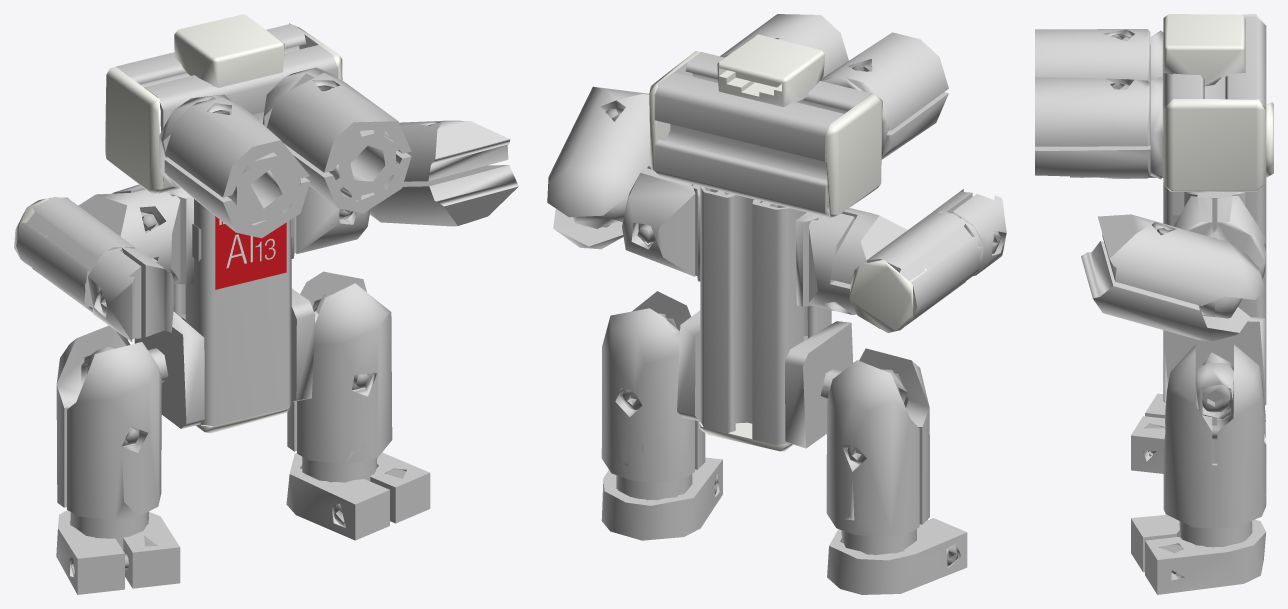
The model's file is item-robot-low.glb.
3 views of the same model, side by side, from view 1: azimuth 30°, elevation 25°; view 2: azimuth 150°, elevation 25°; view 3: azimuth 270°, elevation 25° (orthographic). The views are drawn at different scales.
Parts seen in each view (by area): view 1: Roboter; view 2: Roboter; view 3: Roboter.
Part boxes in pixels (<box>): Roboter: <box>14,14,518,594</box>; Roboter: <box>547,14,1006,594</box>; Roboter: <box>1035,14,1273,594</box>.
Bounding box in the file's own units: 0.1801 × 0.207 × 0.093.
Materials: 4 (1 with a texture image).
